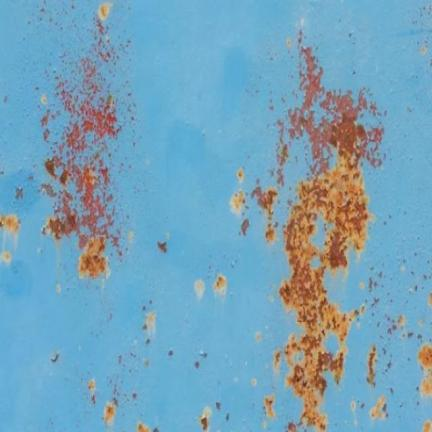karat: (279, 48, 381, 431), (42, 13, 121, 278), (252, 187, 278, 218)
